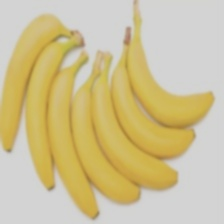banana: (4, 42, 179, 220)
